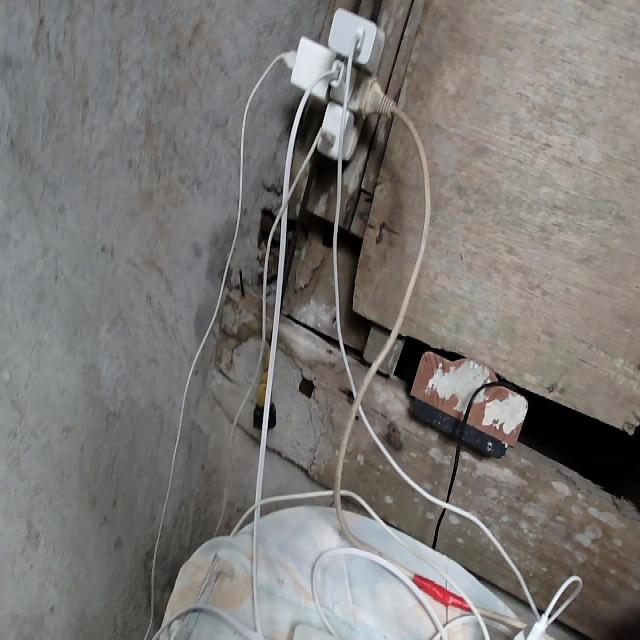-: (284, 5, 388, 163)
